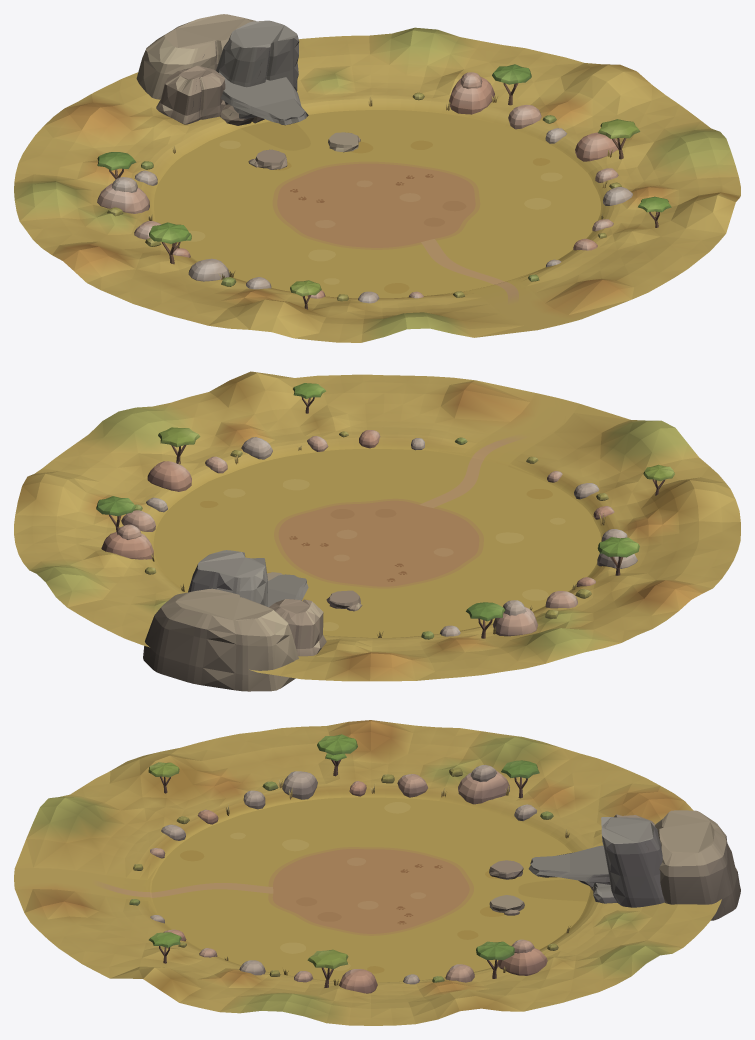
The model's file is Lion_Arena.glb.
3 views of the same model, one above another, from view 1: azimuth 30°, elevation 25°; view 2: azimuth 150°, elevation 25°; view 3: azimuth 270°, elevation 25° (orthographic).
Parts seen in each view (by area): view 1: Banks, Floor_LionLeft, Floor_LionRight, Props; view 2: Banks, Props, Floor_LionRight, Floor_LionLeft; view 3: Banks, Floor_LionRight, Floor_LionLeft, Props.
Boxes of the visible parts, x1,y1,x2,y2 form: Banks: (14,27,740,342); Floor_LionLeft: (265,110,600,285); Floor_LionRight: (154,122,487,298); Props: (97,14,671,309); Banks: (14,371,740,681); Props: (96,383,674,691); Floor_LionRight: (302,461,600,637); Floor_LionLeft: (153,449,488,596); Banks: (14,720,721,1025); Floor_LionRight: (151,797,590,889); Floor_LionLeft: (151,890,590,982); Props: (129,734,740,993).
Bounding box in the file's own units: 218 × 25.28 × 223.
